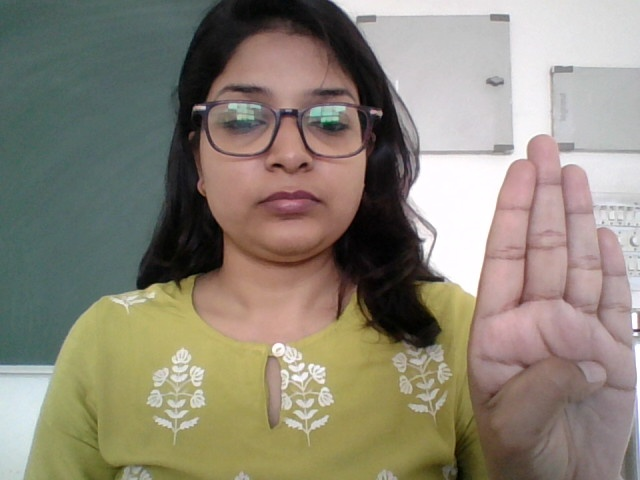B: (463, 131, 639, 469)
